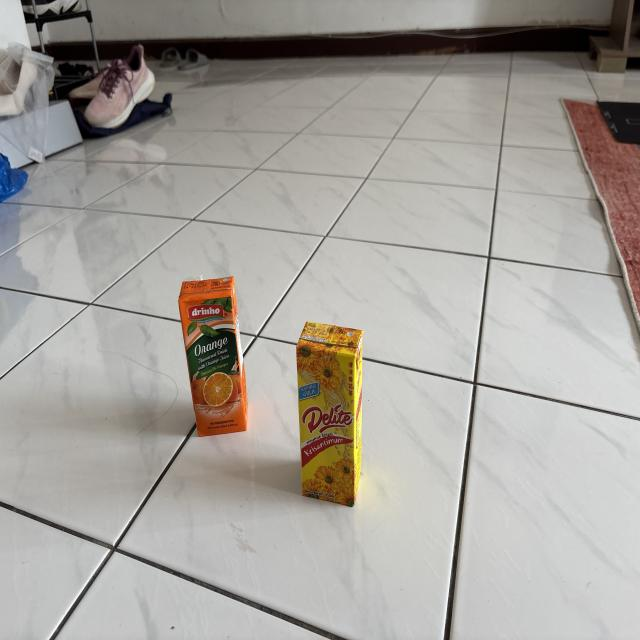drink_carton: (292, 307, 369, 515), (172, 268, 256, 446)
